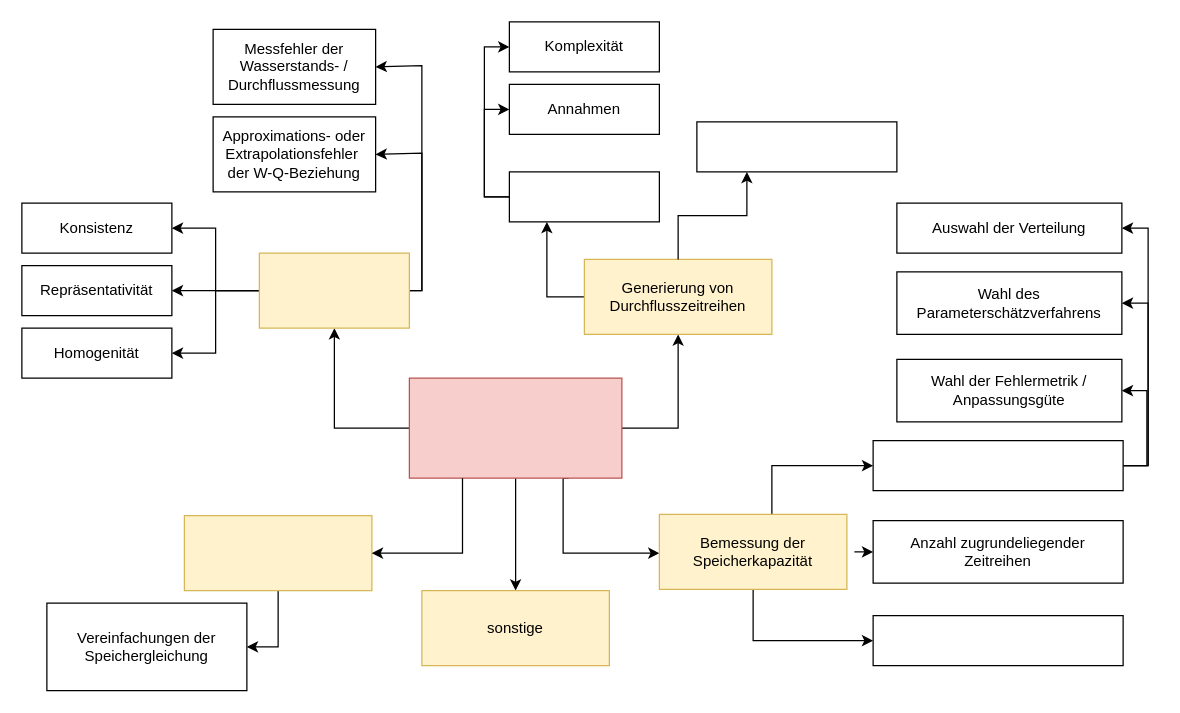
The diagram is 1180 pixels wide and 713 high, and some of its shapes have lost their labels. The shapes that lost their labels are listed below. From the top down, each one's box as (x1, y1, x2, y2) in pixels, then its label:
(696, 121, 897, 172): Modellparametrisierung
(508, 171, 659, 222): Stochastisches Modell
(258, 252, 409, 328): Datengrundlage
(408, 377, 622, 478): Unsicherheiten der Betriebssimulation des Versorgungsspeichers
(872, 439, 1123, 491): Anpassung der theoretischen Verteilung
(183, 514, 372, 591): Simulation des Speichers
(872, 614, 1123, 666): Zuverlässigkeitsniveau
